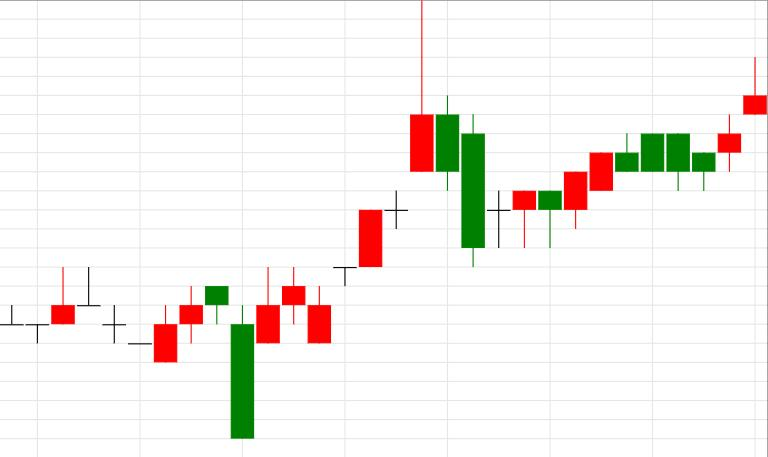shooting_star_fall: (257, 1, 433, 344)
